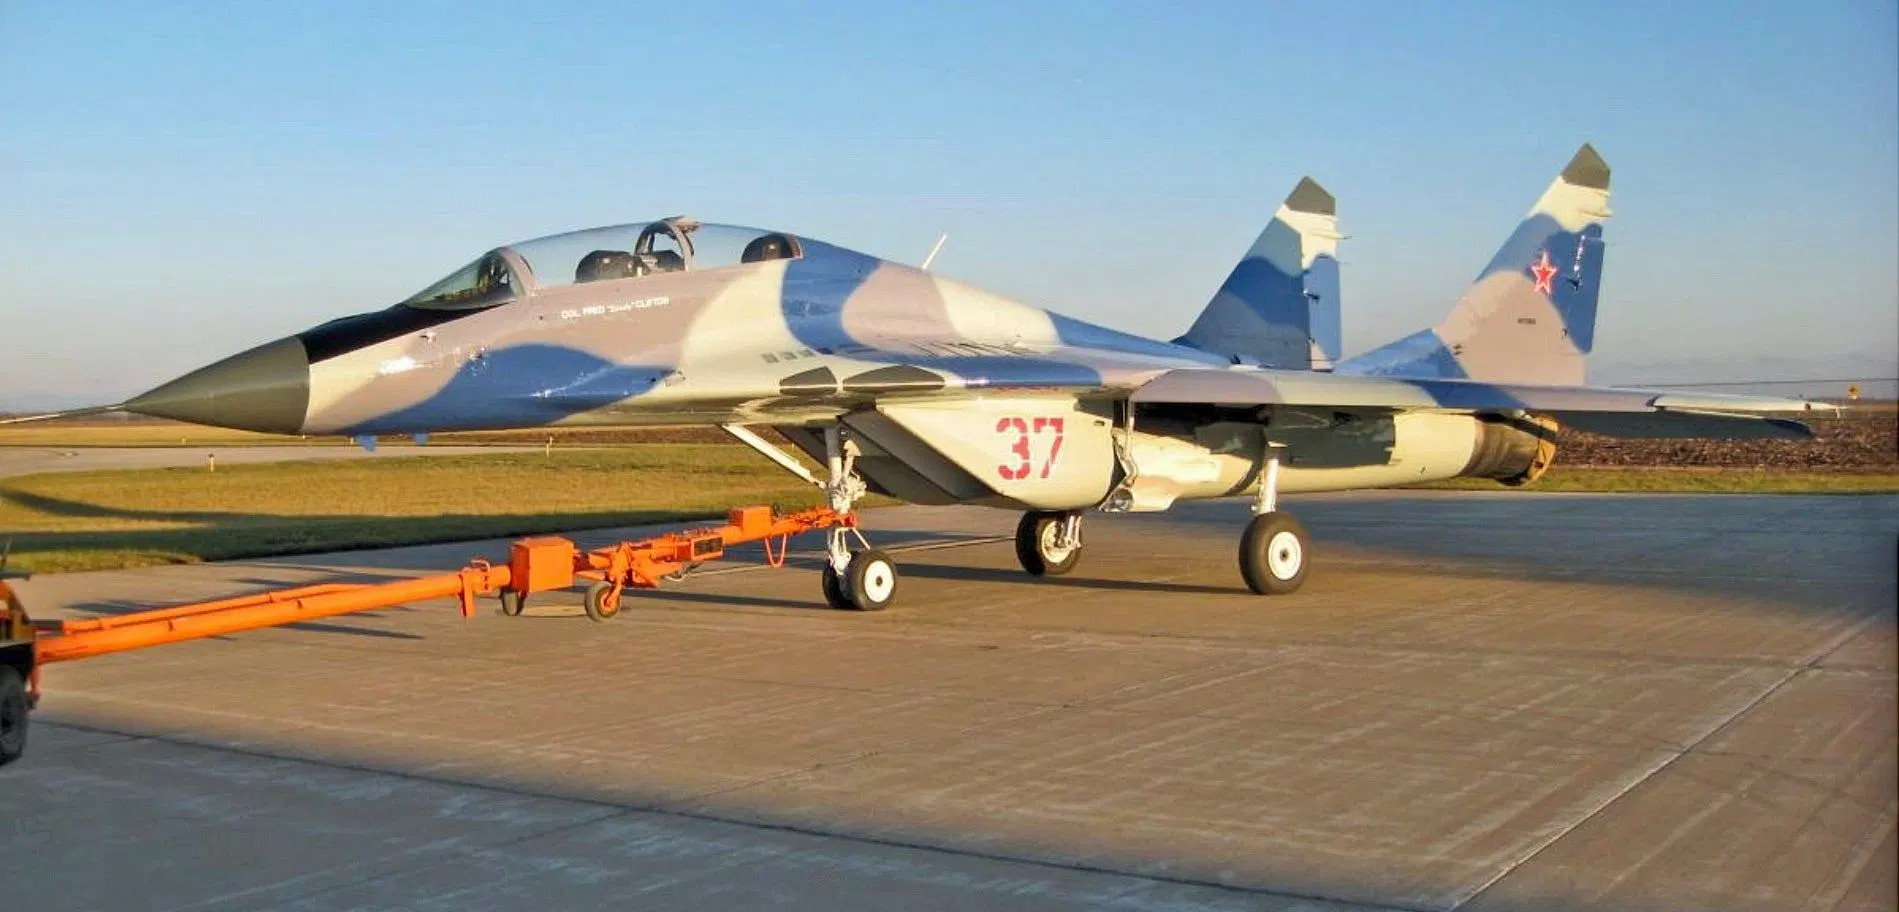Mig-29: (65, 127, 1864, 642)
